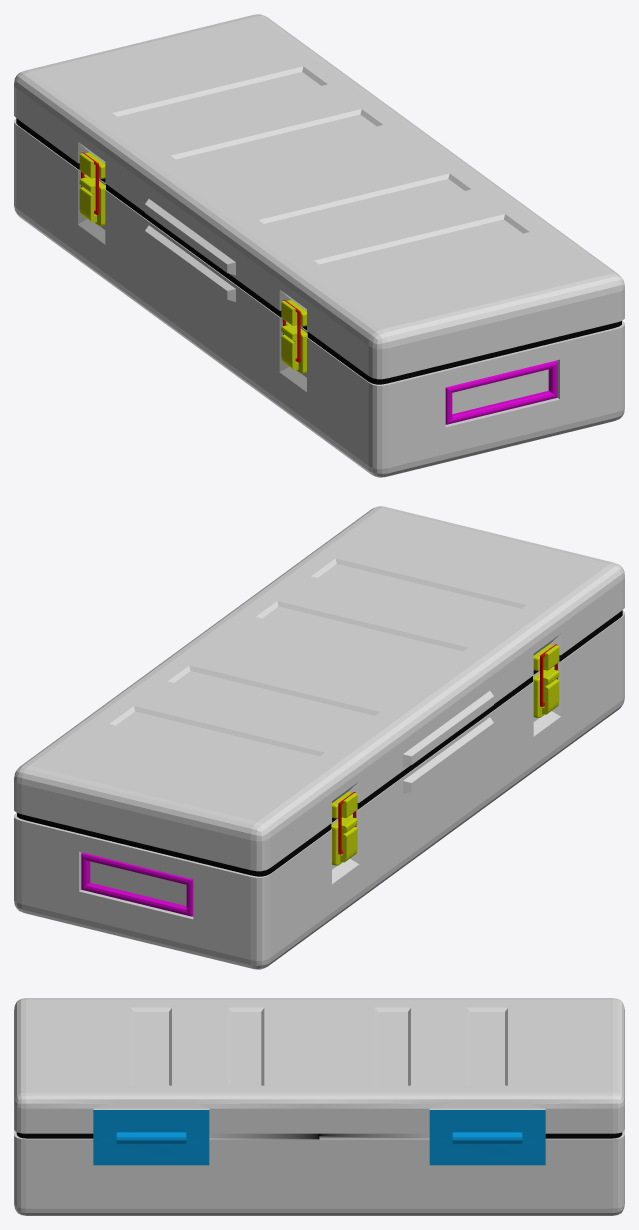
Rendered from MilitaryCrate.fbx.
3 views of the same model, one above another, from view 1: azimuth 30°, elevation 25°; view 2: azimuth 150°, elevation 25°; view 3: azimuth 270°, elevation 25° (orthographic). The views are drawn at different scales.
Parts seen in each view (by area): view 1: Lock Sup; view 2: Lock Sup; view 3: Lock Sup.
Boxes of the visible parts, x1,y1,x2,y2 form: Lock Sup: [14, 14, 624, 477]; Lock Sup: [14, 506, 624, 969]; Lock Sup: [14, 998, 624, 1215].
Bounding box in the file's own units: 42.51 × 22 × 100.
